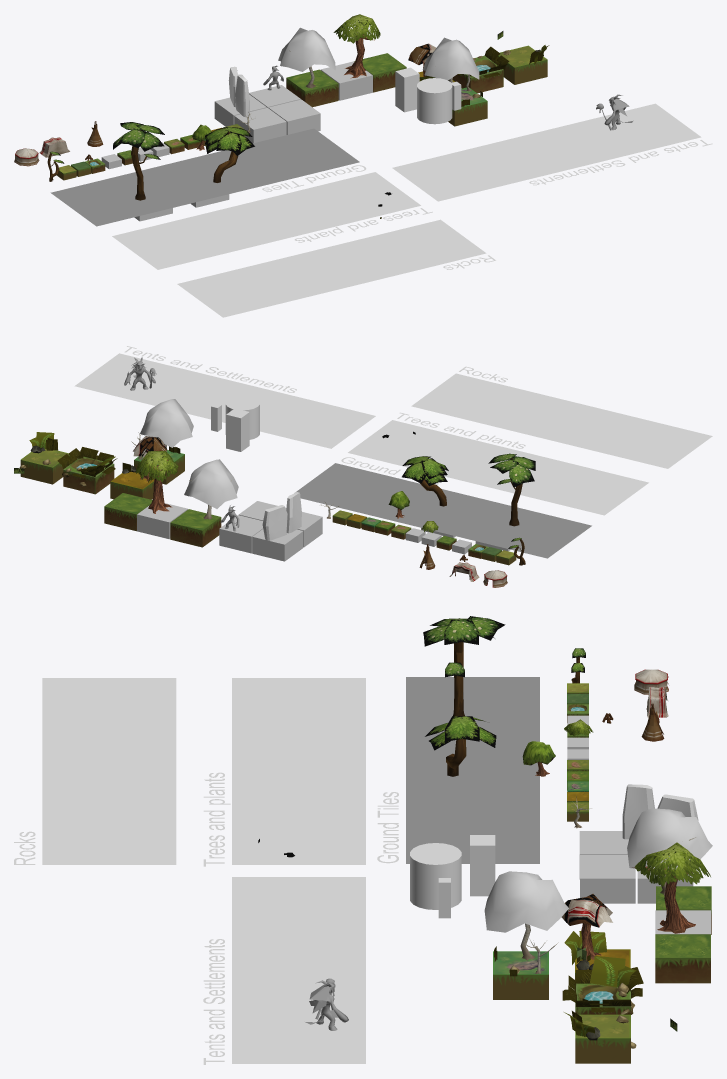
File: prop_Grass4.FBX
3 renders of one model, top to bottom at view 1: azimuth 30°, elevation 25°; view 2: azimuth 150°, elevation 25°; view 3: azimuth 270°, elevation 25°, orthographic. The views are drawn at different scales.
Visible parts, largest first — view 1: Rectangle005, Rectangle004, Rectangle004_ncl1_1, Rectangle006, Tile_Example3, env_Foliage009, Cylinder003, Tile_Example0, env_Tree008, Box019, Tile_Example1, env_Tree007 (+11 smaller); view 2: Rectangle005, Rectangle006, Rectangle004, Rectangle004_ncl1_1, Tile_Example3, Tile_Example1, env_Foliage009, Tile_Example0, Tile_Example2, Box019, env_Tree008, env_Tree007 (+15 smaller); view 3: Rectangle005, Rectangle004, Rectangle004_ncl1_1, Rectangle006, Tile_Example3, Tile_Example1, env_Foliage009, Tile_Example0, Cylinder003, Box017, Tile_Example2, env_Tree008 (+12 smaller).
Part boxes in pixels (box(x1,y1,x2,y2)): Rectangle005: box(177, 219, 486, 317); Rectangle004: box(112, 172, 420, 269); Rectangle004_ncl1_1: box(392, 103, 701, 201); Rectangle006: box(50, 128, 359, 226); Tile_Example3: box(422, 37, 487, 126); env_Foliage009: box(278, 27, 335, 71); Cylinder003: box(417, 78, 452, 124); Tile_Example0: box(497, 45, 549, 84); env_Tree008: box(113, 122, 164, 200); Box019: box(286, 69, 338, 107); Tile_Example1: box(452, 46, 509, 93); env_Tree007: box(205, 127, 254, 182); Rectangle005: box(411, 373, 712, 468); Rectangle006: box(295, 463, 591, 558); Rectangle004: box(348, 420, 648, 515); Rectangle004_ncl1_1: box(74, 353, 375, 448); Tile_Example3: box(131, 399, 193, 484); Tile_Example1: box(57, 447, 117, 494); env_Foliage009: box(184, 459, 238, 508); Tile_Example0: box(19, 432, 69, 484); Tile_Example2: box(110, 436, 167, 499); Box019: box(170, 509, 221, 547); env_Tree008: box(488, 453, 535, 526); env_Tree007: box(402, 456, 448, 506); Rectangle005: box(42, 678, 176, 864); Rectangle004: box(232, 678, 365, 864); Rectangle004_ncl1_1: box(232, 877, 365, 1063); Rectangle006: box(406, 677, 539, 863); Tile_Example3: box(484, 871, 568, 999); Tile_Example1: box(562, 956, 643, 1014); env_Foliage009: box(627, 808, 712, 868); Tile_Example0: box(564, 1011, 636, 1063); Cylinder003: box(410, 843, 461, 909); Box017: box(655, 934, 710, 983); Tile_Example2: box(561, 894, 630, 981); env_Tree008: box(423, 616, 505, 716).
Bounding box in the file's own units: 1054 × 803 × 160.
